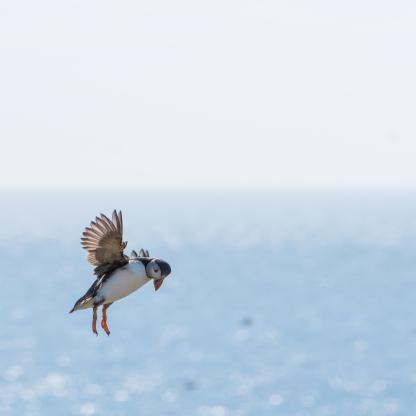bird: (69, 209, 172, 338)
